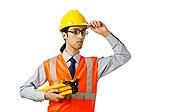helmet: (59, 10, 91, 29)
